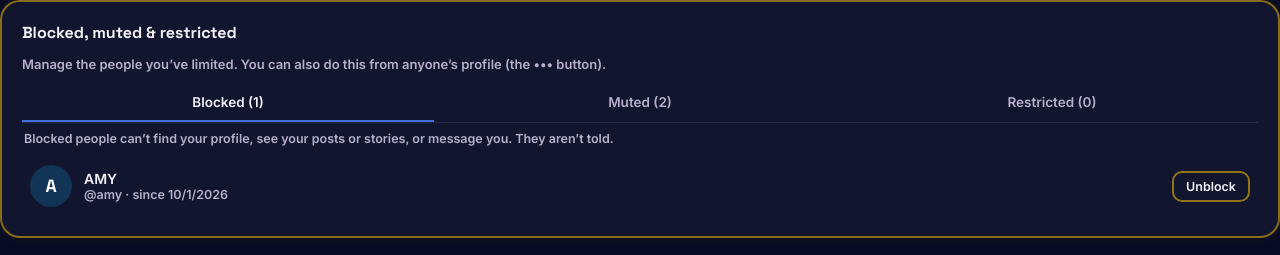
Settings: blocked / muted / restricted › blocked people have no "View" link (their profile is hidden), and an empty list says so
Expected: the text "AMY" is shown, [84, 170, 117, 187]
Click the tab "Restricted (0)". click: (1052, 103)
box: [846, 84, 1258, 122]
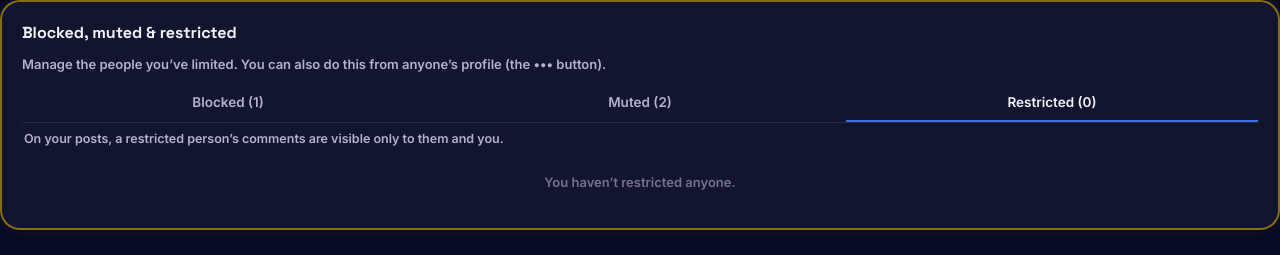
Result: the text "You haven’t restricted anyone." is shown at [544, 174, 736, 190]
